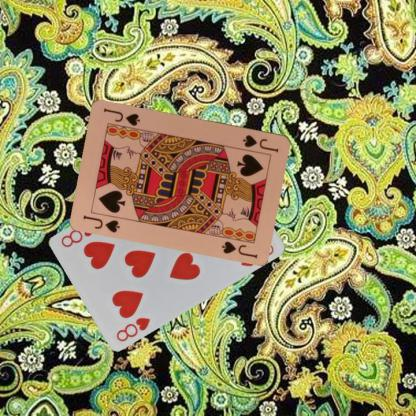8h: (113, 314, 152, 343)
Js: (240, 132, 281, 154), (81, 212, 122, 234)
